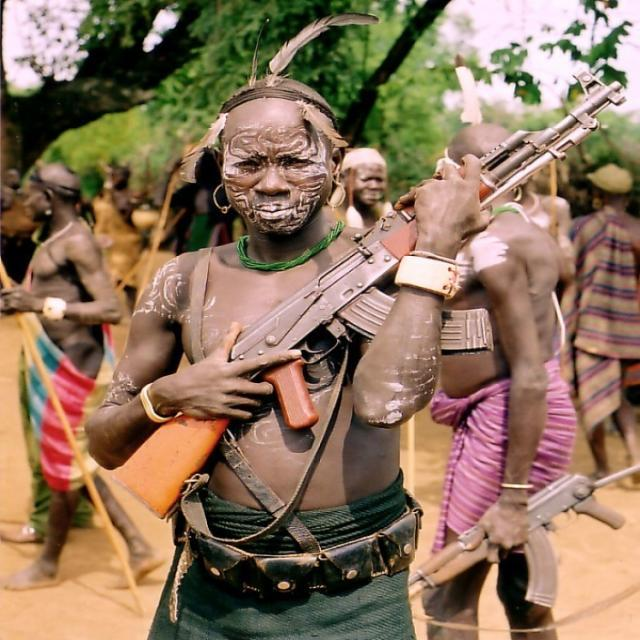gun-knife-thesis - v11 Yolov5 augmented: (121, 69, 627, 507), (405, 464, 638, 619)
